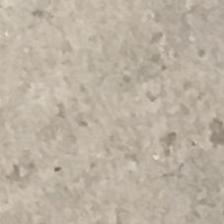Non_Crack: (7, 5, 224, 223)
